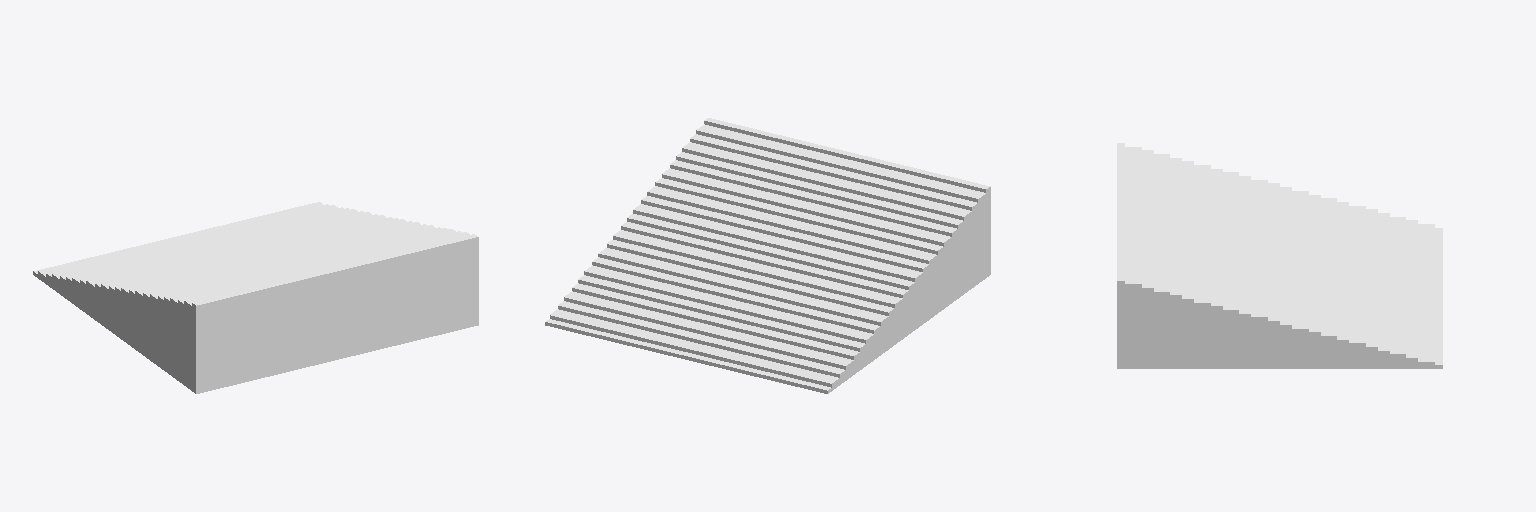
The model's file is dom-7.obj.
The picture shows the model from 3 angles: view 1: azimuth 30°, elevation 25°; view 2: azimuth 150°, elevation 25°; view 3: azimuth 270°, elevation 25°; orthographic projection.
Parts seen in each view (by area): view 1: object 1; view 2: object 1; view 3: object 1.
Part boxes in pixels (left/top/right/bottom): object 1: left=33, top=202, right=478, bottom=393; object 1: left=545, top=118, right=990, bottom=393; object 1: left=1117, top=143, right=1442, bottom=368.
Size of the model in its own units: 8 by 2.4 by 8.